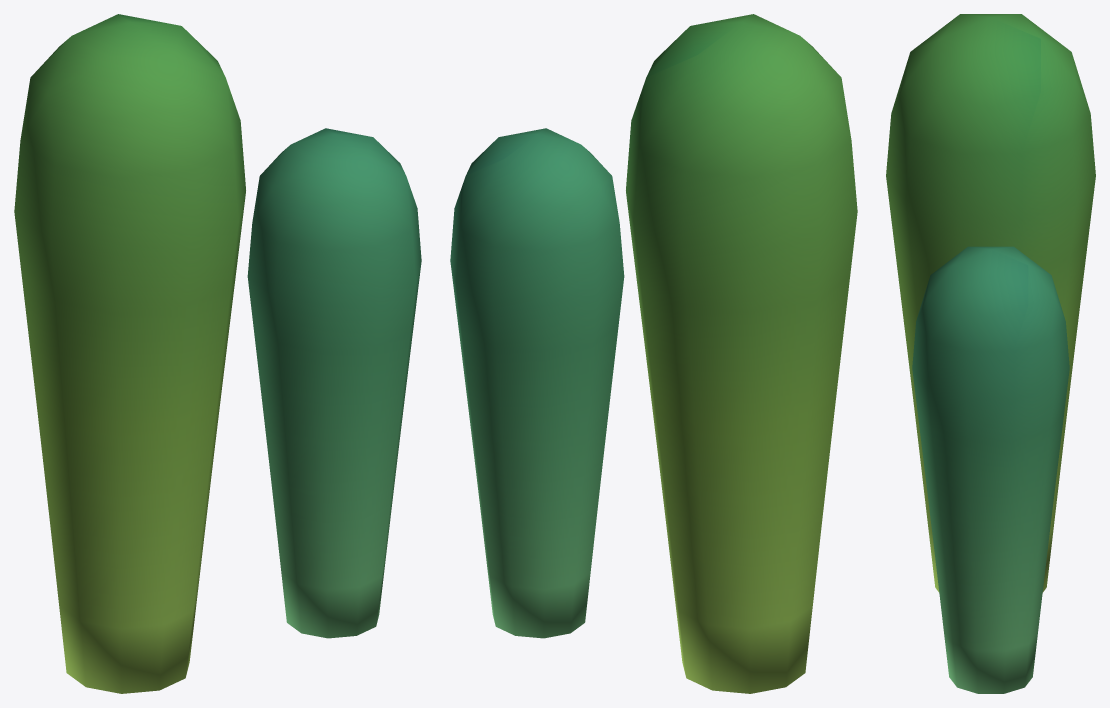
Rendered from grass_pile.gltf.
3 views of the same model, side by side, from view 1: azimuth 30°, elevation 25°; view 2: azimuth 150°, elevation 25°; view 3: azimuth 270°, elevation 25° (orthographic). The views are drawn at different scales.
Parts seen in each view (by area): view 1: GrassPile; view 2: GrassPile; view 3: GrassPile.
Boxes of the visible parts, x1,y1,x2,y2 form: GrassPile: [14, 14, 421, 693]; GrassPile: [450, 14, 857, 693]; GrassPile: [886, 14, 1095, 693].
Size of the model in its own units: 0.2568 by 0.4222 by 0.1405.
Materials: 1 (1 with a texture image).
